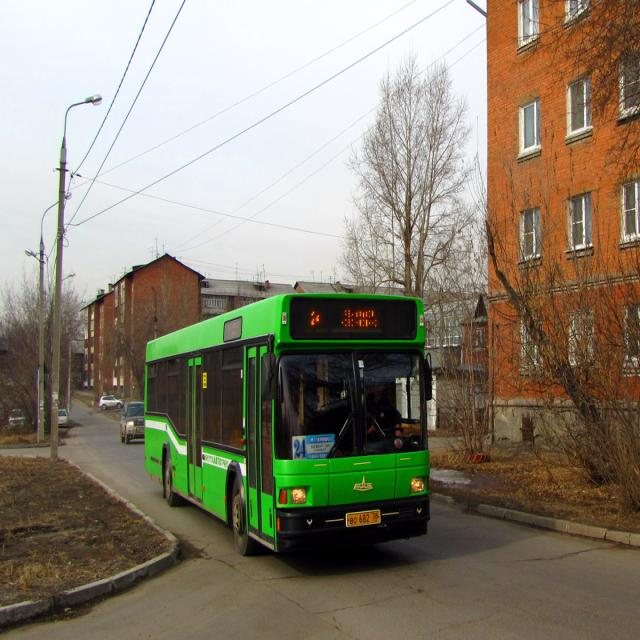number-of-bus: (294, 439, 308, 461)
